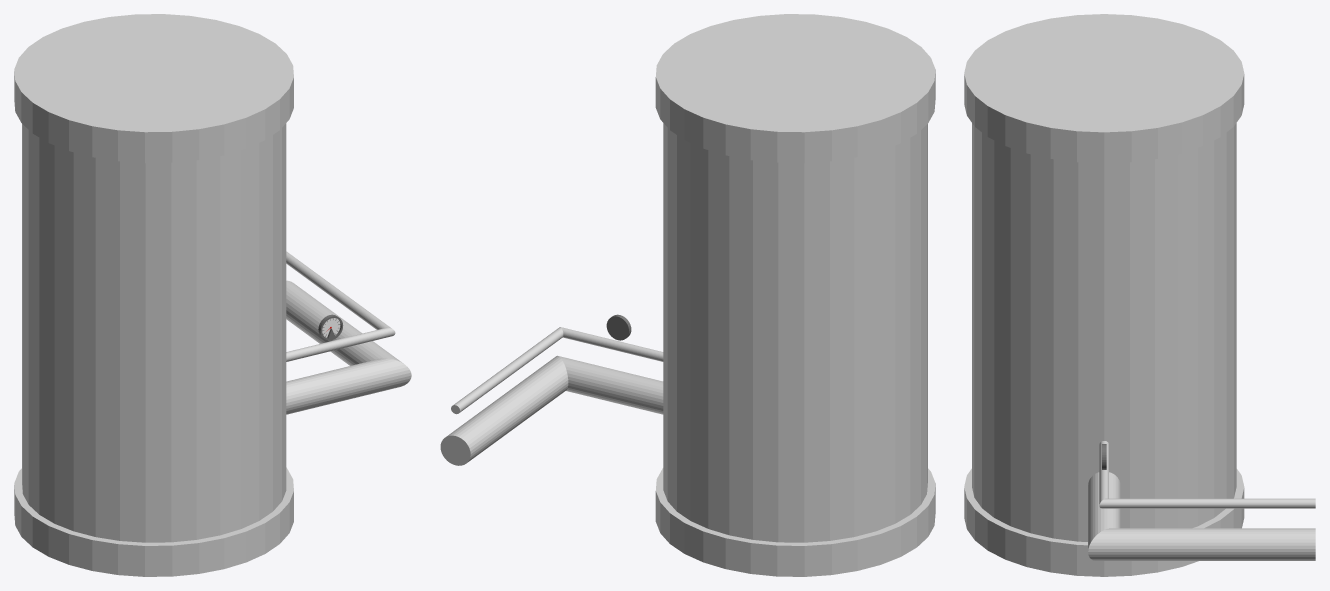
Rendered from boiler.fbx.
The picture shows the model from 3 angles, left to right: view 1: azimuth 30°, elevation 25°; view 2: azimuth 150°, elevation 25°; view 3: azimuth 270°, elevation 25°; orthographic projection.
Parts seen in each view (by area): view 1: Cylinder.064, Cylinder.065, Cylinder.066, Cylinder.067, Cylinder.068; view 2: Cylinder.064, Cylinder.065, Cylinder.066, Cylinder.067; view 3: Cylinder.064, Cylinder.065, Cylinder.066, Cylinder.067.
Boxes of the visible parts, x1,y1,x2,y2 form: Cylinder.064: (22, 123, 286, 542); Cylinder.065: (14, 14, 293, 576); Cylinder.066: (286, 280, 411, 414); Cylinder.067: (286, 251, 395, 361); Cylinder.068: (318, 314, 343, 340); Cylinder.064: (663, 123, 927, 542); Cylinder.065: (655, 14, 935, 576); Cylinder.066: (440, 355, 663, 465); Cylinder.067: (451, 327, 663, 414); Cylinder.064: (972, 123, 1236, 541); Cylinder.065: (964, 14, 1244, 576); Cylinder.066: (1088, 472, 1315, 560); Cylinder.067: (1099, 441, 1315, 508).
Size of the model in its own units: 518 by 594 by 426.
